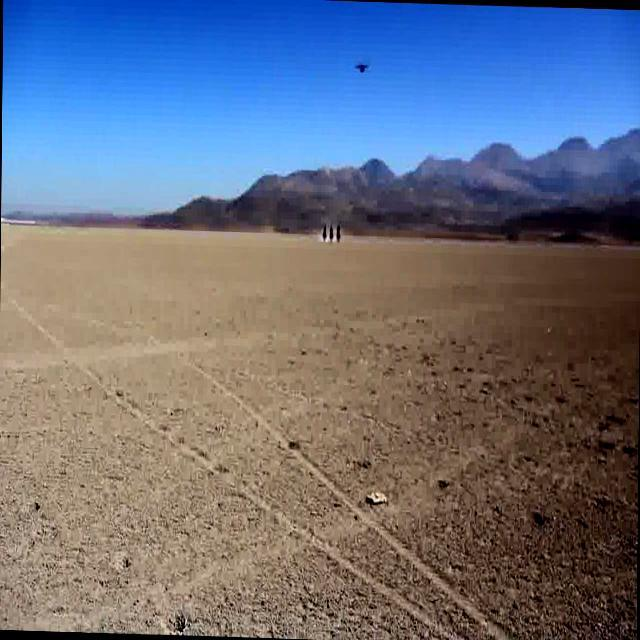drone: (356, 58, 370, 78)
